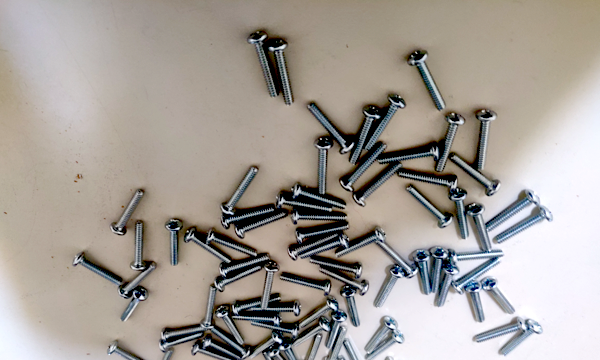longscrew: (309, 99, 353, 156), (365, 95, 402, 157), (409, 51, 447, 111), (339, 146, 386, 192), (489, 192, 541, 231), (498, 209, 554, 245), (348, 103, 377, 166), (251, 30, 277, 98), (270, 40, 296, 108), (108, 187, 144, 236), (406, 187, 450, 227), (453, 154, 498, 193), (358, 166, 400, 207), (469, 110, 497, 170), (437, 112, 465, 172), (224, 165, 257, 215), (72, 252, 123, 284), (454, 258, 502, 291), (218, 204, 277, 230), (397, 166, 460, 190), (475, 319, 527, 348), (500, 323, 542, 358), (373, 143, 439, 165), (336, 230, 386, 259), (299, 233, 349, 262), (290, 187, 348, 212), (121, 262, 158, 301), (189, 230, 230, 265), (206, 233, 261, 259), (286, 233, 335, 262), (378, 243, 416, 280), (235, 212, 289, 238), (296, 298, 336, 333), (311, 137, 334, 197), (280, 275, 334, 300), (216, 268, 262, 297), (306, 257, 363, 280), (319, 270, 367, 296), (215, 255, 271, 277), (374, 267, 403, 309), (484, 280, 519, 314), (211, 328, 248, 360), (216, 307, 245, 347), (118, 288, 149, 325), (470, 204, 493, 253), (297, 224, 350, 245), (365, 317, 397, 351), (367, 332, 405, 360), (292, 321, 330, 349), (158, 332, 208, 352), (451, 188, 470, 240), (413, 250, 433, 296), (324, 310, 347, 350), (259, 261, 277, 312), (291, 212, 348, 228), (339, 288, 361, 329), (277, 194, 330, 211), (439, 265, 459, 310), (429, 248, 449, 293), (246, 321, 298, 338), (203, 340, 243, 360), (131, 221, 147, 271), (229, 297, 282, 312), (251, 334, 281, 360), (325, 327, 348, 360), (200, 285, 218, 327), (467, 282, 486, 321), (166, 218, 181, 267), (232, 311, 283, 325), (109, 343, 149, 360), (450, 250, 504, 262), (301, 334, 323, 360), (192, 347, 235, 360), (153, 329, 199, 341), (250, 305, 303, 315), (345, 340, 368, 360), (268, 348, 298, 360), (279, 342, 298, 360), (149, 351, 169, 360), (265, 354, 287, 360), (369, 357, 394, 360), (340, 358, 365, 360)
